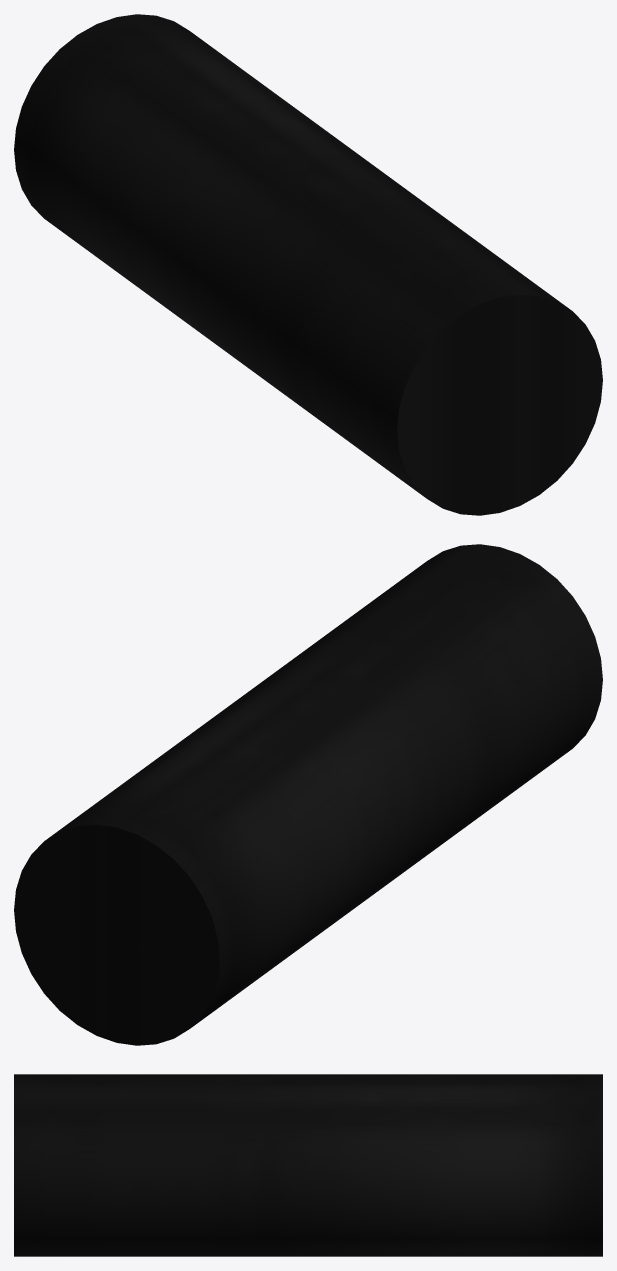
Rendered from left_piston_housing.obj.
3 views of the same model, one above another, from view 1: azimuth 30°, elevation 25°; view 2: azimuth 150°, elevation 25°; view 3: azimuth 270°, elevation 25° (orthographic). The views are drawn at different scales.
Parts seen in each view (by area): view 1: Cylinder.114; view 2: Cylinder.114; view 3: Cylinder.114.
Part boxes in pixels (x1,y1,x2,y2): Cylinder.114: (14, 14, 602, 515); Cylinder.114: (14, 544, 602, 1045); Cylinder.114: (14, 1074, 602, 1256).
Size of the model in its own units: 0.0429 by 0.0429 by 0.1382.
